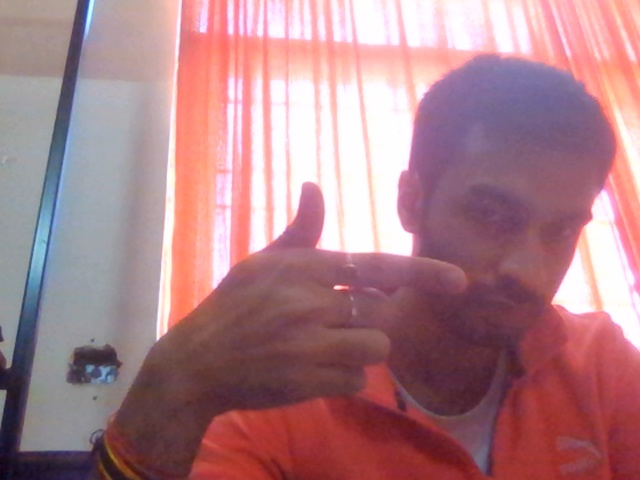G: (107, 169, 477, 475)
